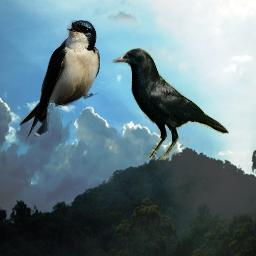Crow: (111, 48, 229, 160)
Swallow: (19, 20, 100, 141)
